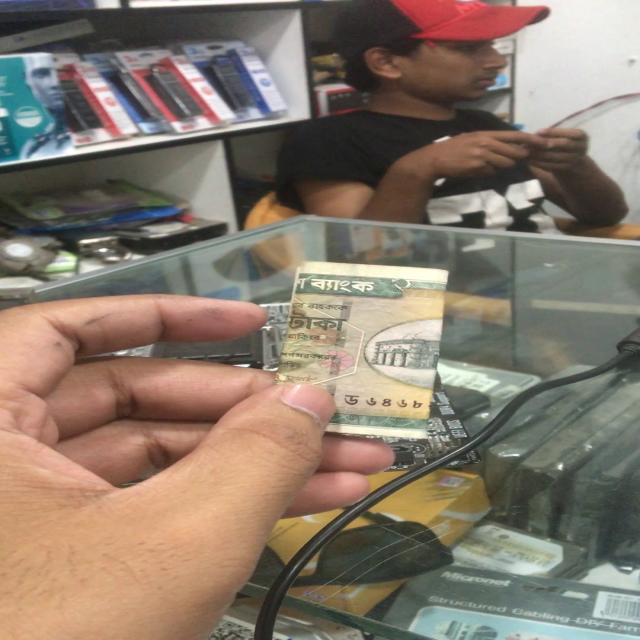Taka: (298, 266, 447, 442)
